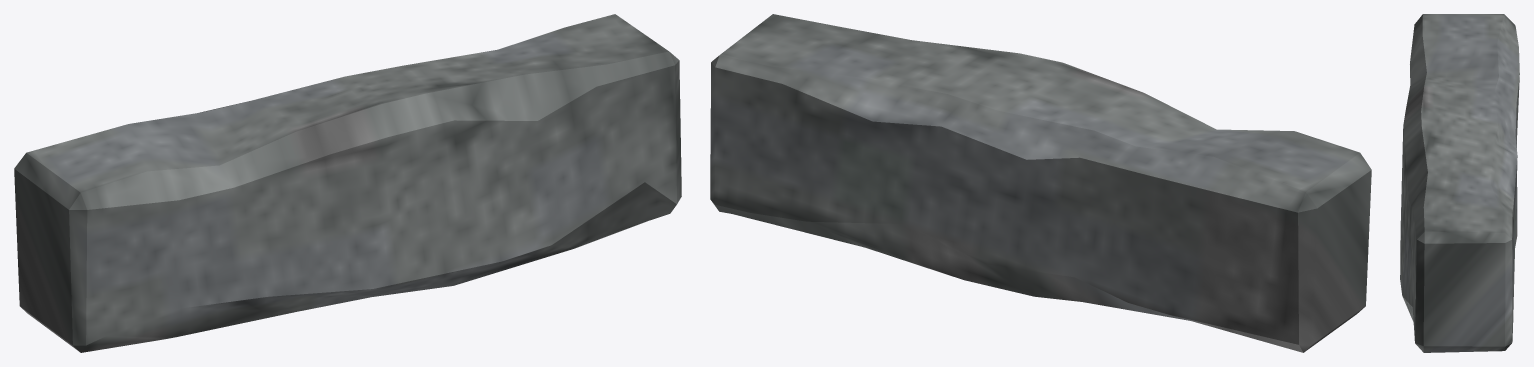
Rendered from stoneB.obj.
The picture shows the model from 3 angles, left to right: view 1: azimuth 30°, elevation 25°; view 2: azimuth 150°, elevation 25°; view 3: azimuth 270°, elevation 25°; orthographic projection. The views are drawn at different scales.
Parts seen in each view (by area): view 1: stoneB1; view 2: stoneB1; view 3: stoneB1.
Boxes of the visible parts, x1,y1,x2,y2 form: stoneB1: [14, 14, 681, 352]; stoneB1: [710, 14, 1371, 352]; stoneB1: [1400, 14, 1519, 352].
Size of the model in its own units: 1.99 by 0.6182 by 0.4496.
Materials: 1 (1 with a texture image).
